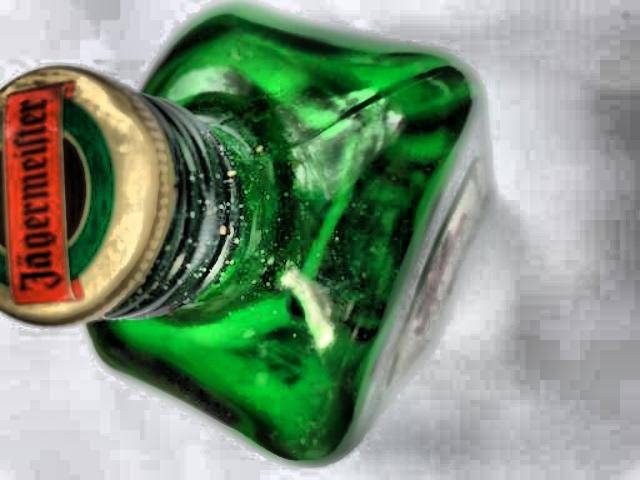Bottles: (0, 0, 496, 474)
